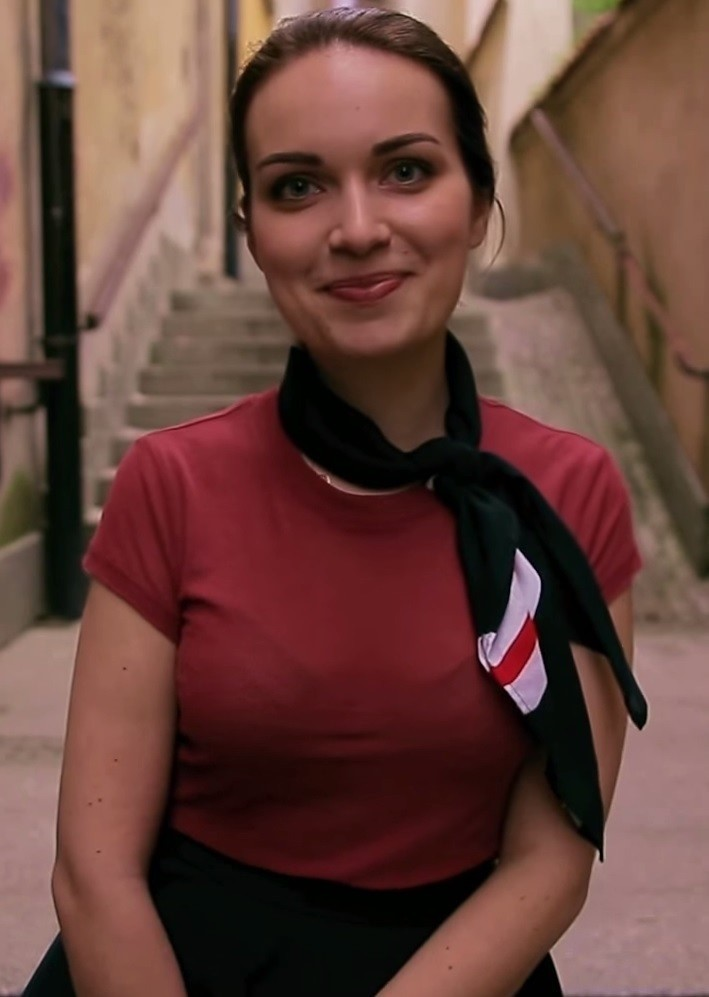face_no_mask: (238, 7, 497, 373)
